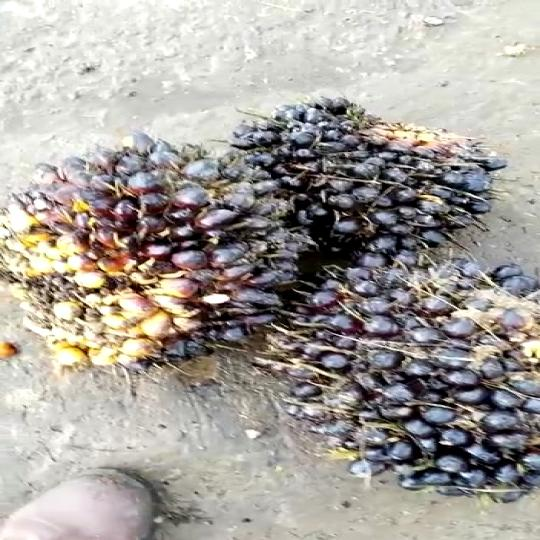mentah: (0, 127, 299, 377), (278, 251, 540, 517), (222, 100, 526, 259)
